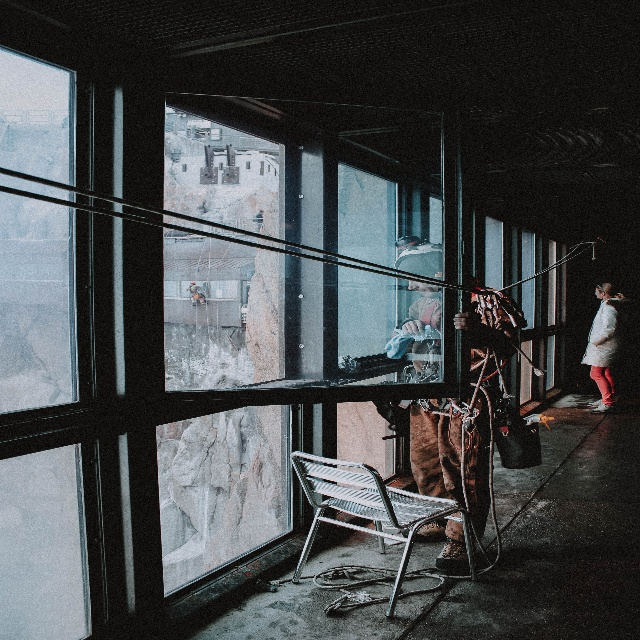Sin_guantes: (453, 300, 483, 333), (401, 319, 427, 338)
